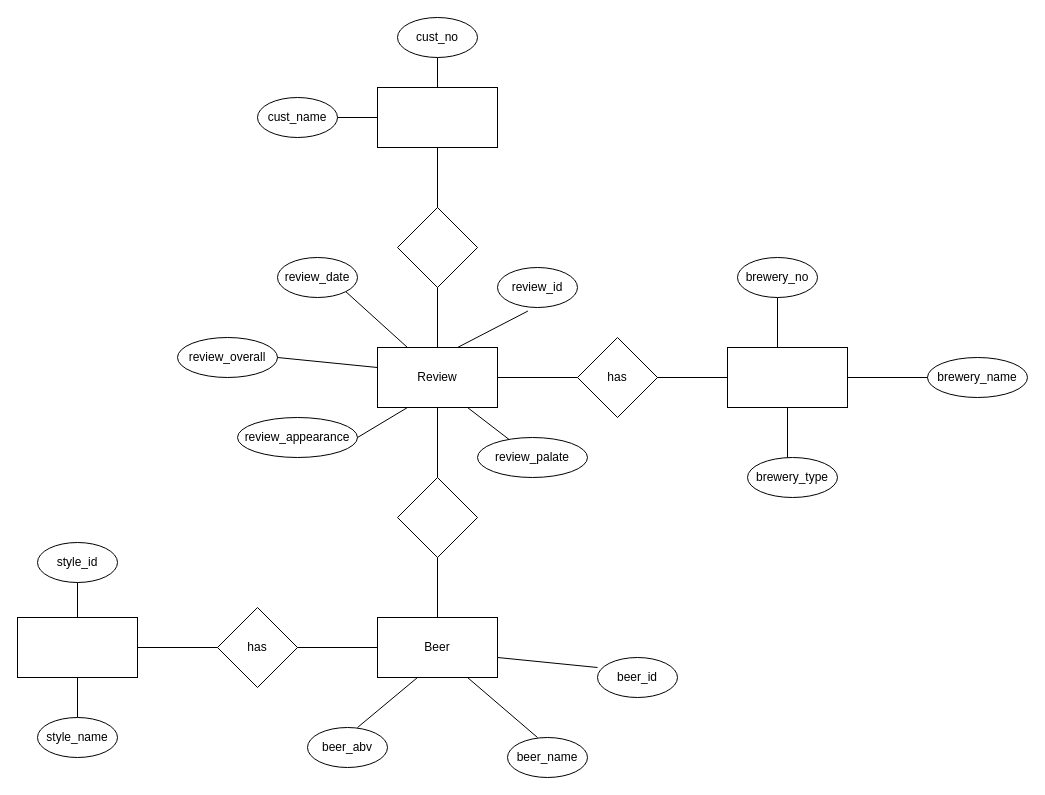
Image size: 1045x795. Some labels were removed from this diagram. The centre of each missing label's shape, as x and y in pixels:
Beer_Style: [77,647]
Brewery: [787,377]
Customer: [437,117]
does: [437,247]
includes: [437,517]
